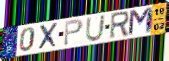0: (19, 27, 36, 53)
M: (127, 6, 155, 38)
P: (63, 18, 84, 47)
R: (108, 10, 130, 41)
U: (84, 14, 107, 43)
X: (37, 21, 59, 51)
